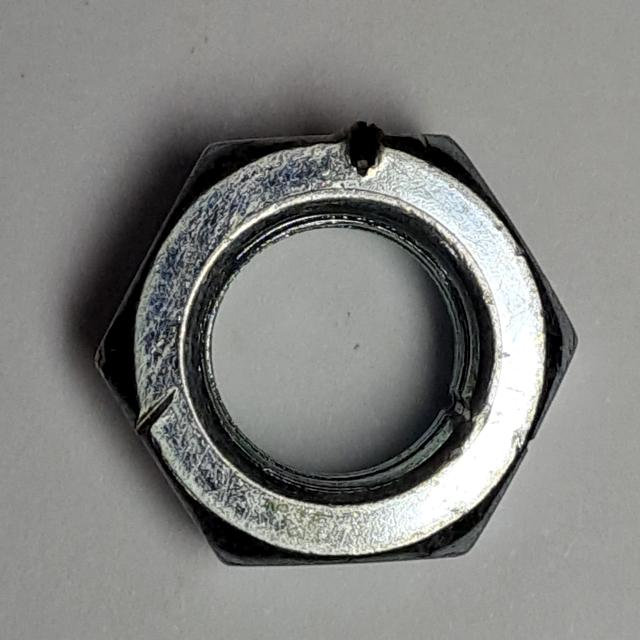Scratches: (87, 102, 589, 584)
